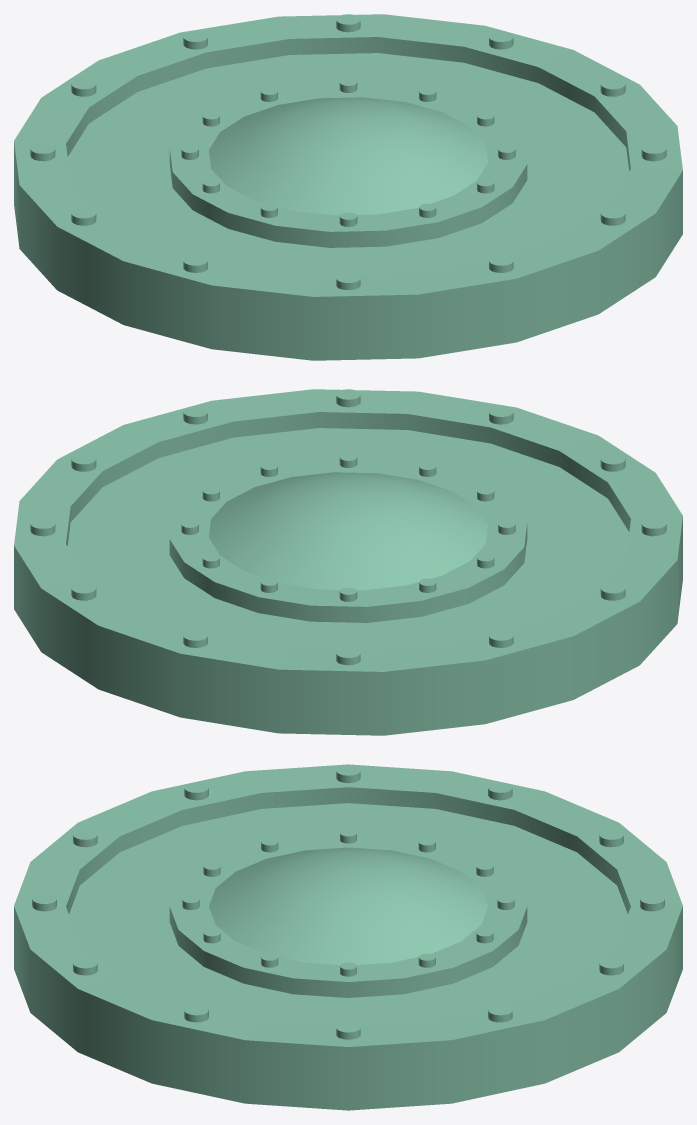
File: EscudoCircular.fbx
3 views of the same model, one above another, from view 1: azimuth 30°, elevation 25°; view 2: azimuth 150°, elevation 25°; view 3: azimuth 270°, elevation 25° (orthographic).
Visible parts, largest first — view 1: polySurface44; view 2: polySurface44; view 3: polySurface44.
Boxes of the visible parts, x1=… form: polySurface44: x1=14, y1=14, x2=682, y2=360; polySurface44: x1=14, y1=389, x2=682, y2=735; polySurface44: x1=14, y1=764, x2=682, y2=1110.
Size of the model in its own units: 0.6164 by 0.1452 by 0.6164.
